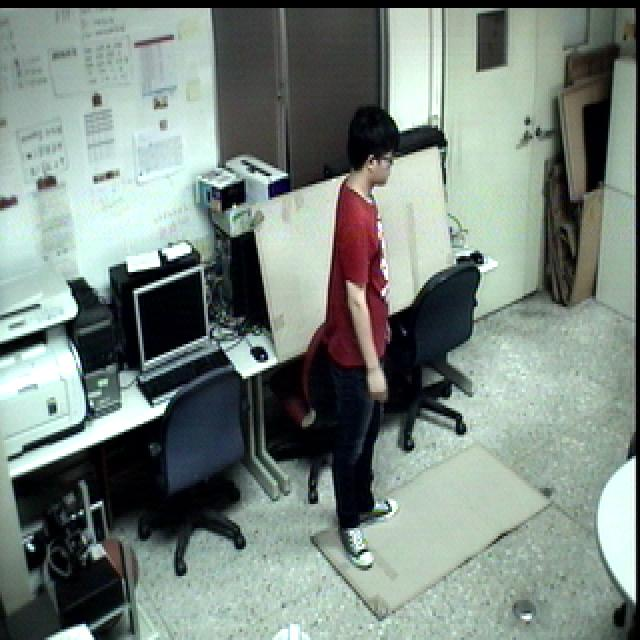stand: (306, 101, 420, 576)
